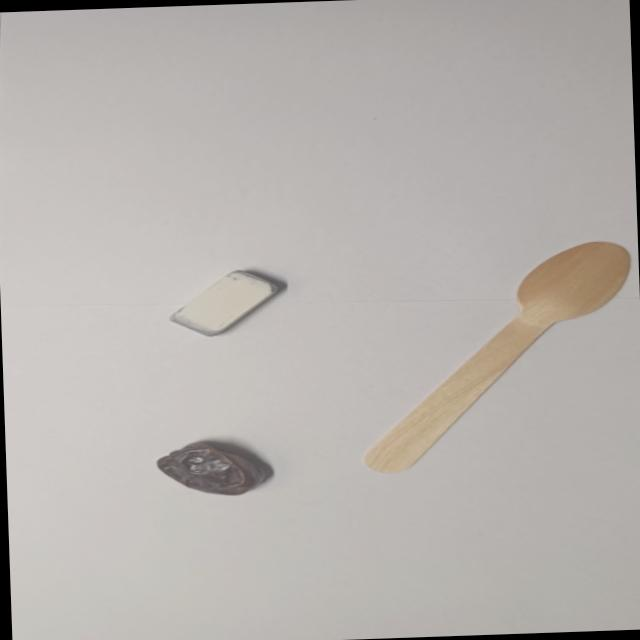Date-Bio: (150, 432, 274, 498)
Eraser-NonBio: (165, 266, 291, 340)
Wooden Spoon-Bio: (351, 236, 640, 476)
